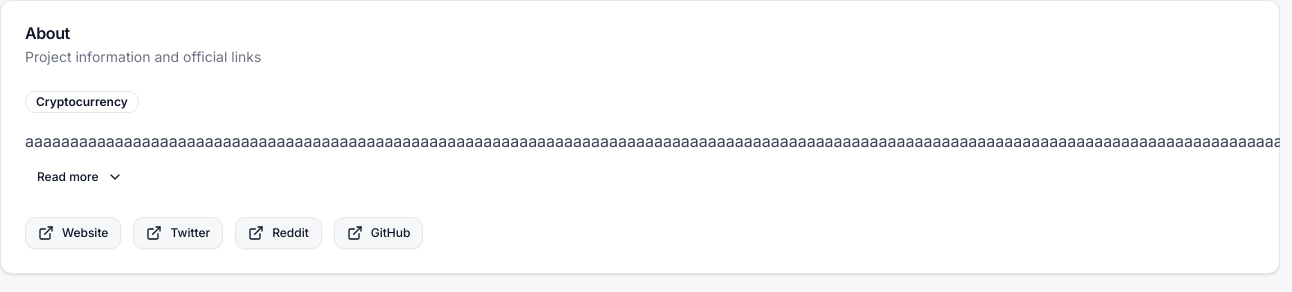
Test case: CoinDescription › expands and collapses description when clicking show more/less
What coordinates should you click on to do the following:
click the button "Read more"
I would click on:
 (80, 177)
Its box is [25,161,135,193].
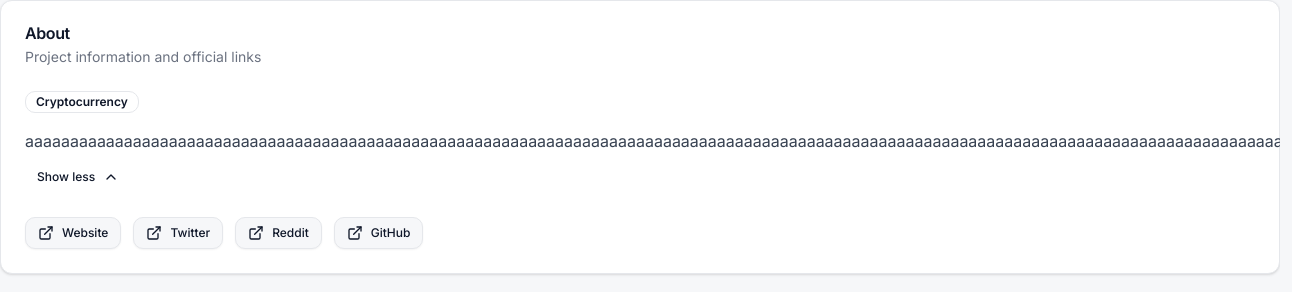
Result: the button "Show less" is shown
What coordinates should you click on to do the following:
click the button "Show less"
I would click on:
 (78, 177)
Its box is [25,161,131,193].
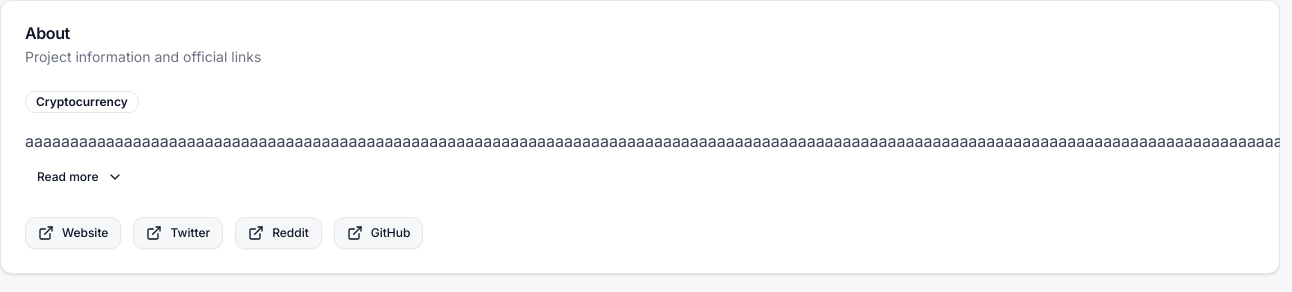
Result: the button "Read more" is shown at [25,161,135,193]
